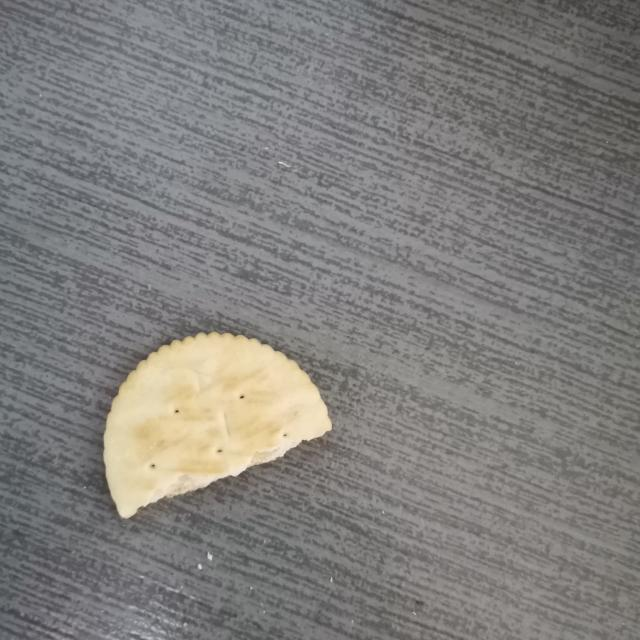Broken: (101, 330, 332, 520)
